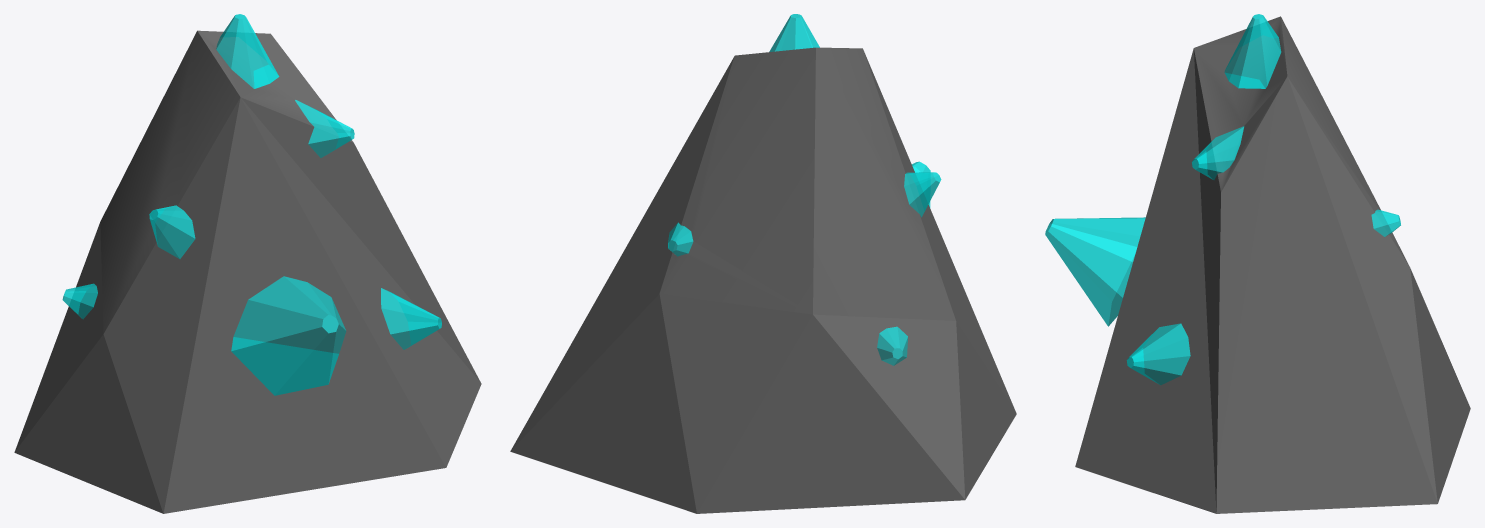
The model's file is Prop_Ore_Node_Blue_01.fbx.
3 views of the same model, side by side, from view 1: azimuth 30°, elevation 25°; view 2: azimuth 150°, elevation 25°; view 3: azimuth 270°, elevation 25° (orthographic). The views are drawn at different scales.
Parts seen in each view (by area): view 1: Prop_Ore_Node_Blue_01; view 2: Prop_Ore_Node_Blue_01; view 3: Prop_Ore_Node_Blue_01.
Boxes of the visible parts, x1,y1,x2,y2 form: Prop_Ore_Node_Blue_01: [14, 14, 481, 513]; Prop_Ore_Node_Blue_01: [510, 14, 1016, 513]; Prop_Ore_Node_Blue_01: [1045, 14, 1470, 513].
Size of the model in its own units: 40.33 by 42.58 by 36.78.
